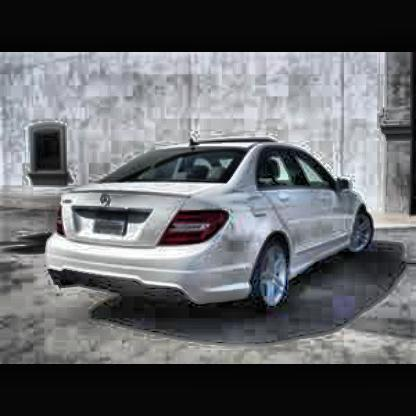Mercedes-Benz C-Class Sedan 2012: (45, 139, 377, 315)
